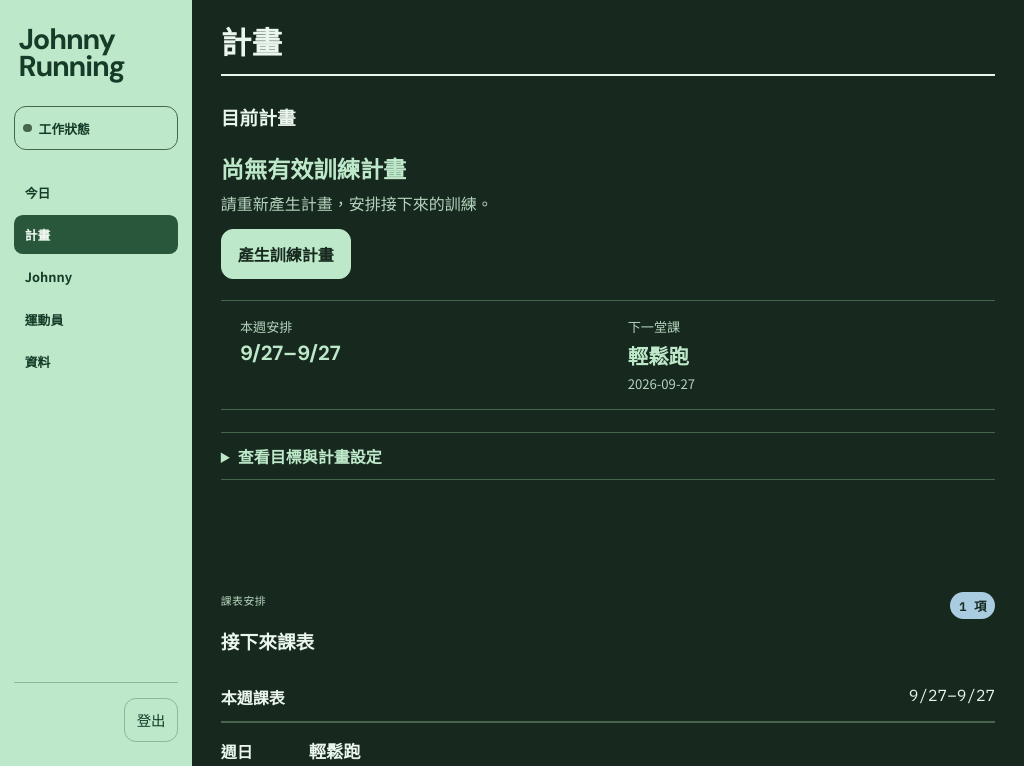
Test case: Stage 7 frontend acceptance › revalidates the current day when first hydration is held across midnight
This screenshot has width=1024, height=766.
Click the button "今日" at (96, 192), box top-left (14, 172), bottom-right (178, 212)
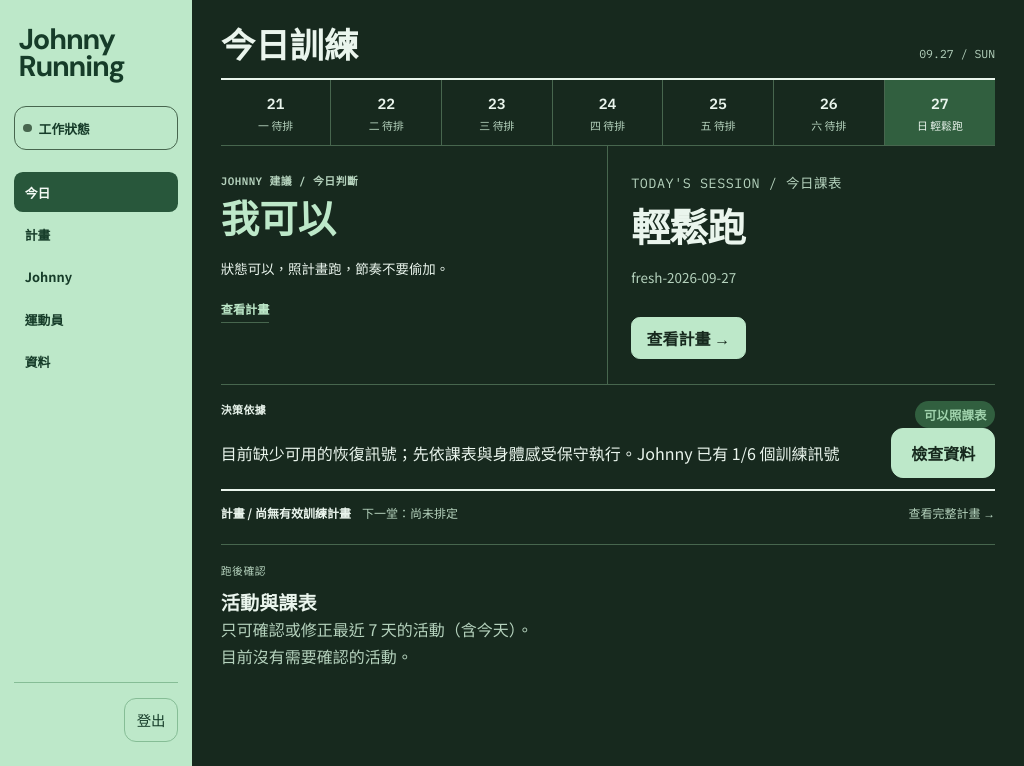
Result: the element showing "TODAY'S SESSION / 今日課表 輕鬆跑 fresh-2026-09-27 查看計畫 →" is shown at top-left (631, 174), bottom-right (842, 359)
